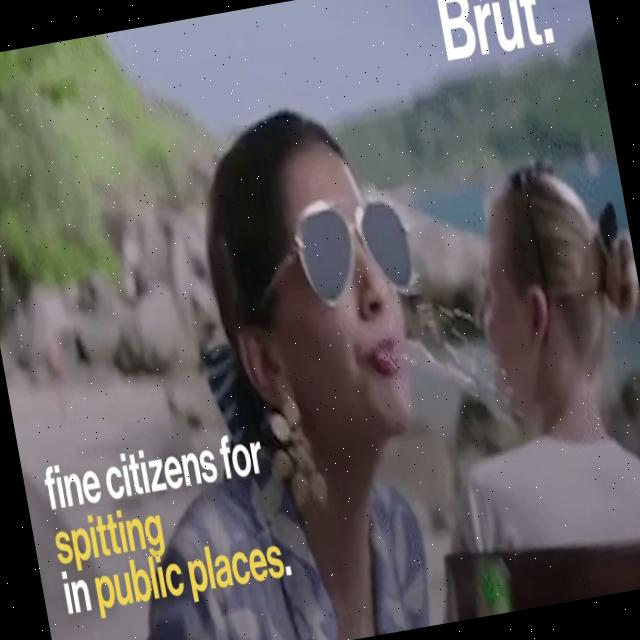spit: (332, 239, 527, 462)
